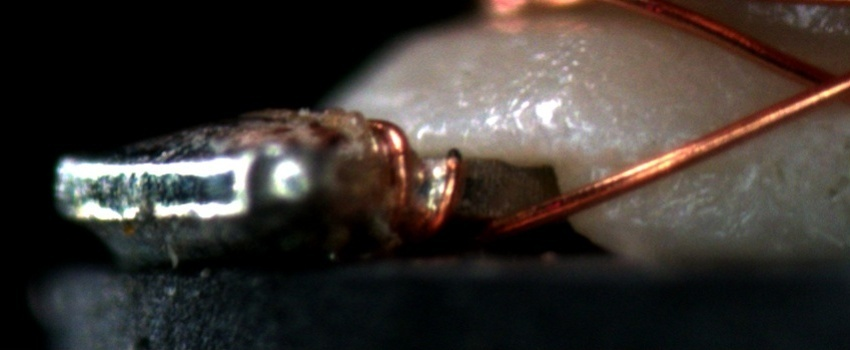CL: (778, 55, 848, 115)
DL: (601, 146, 759, 191)
TE: (363, 109, 467, 235)
